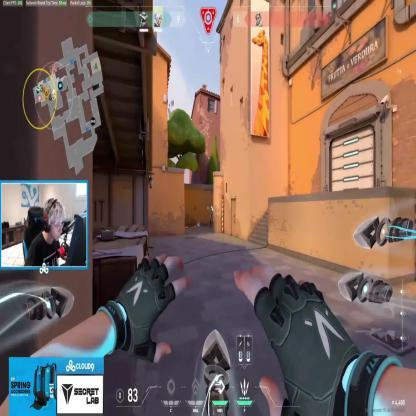enemy: (209, 206, 214, 228)
enemy_head: (210, 206, 213, 210)
